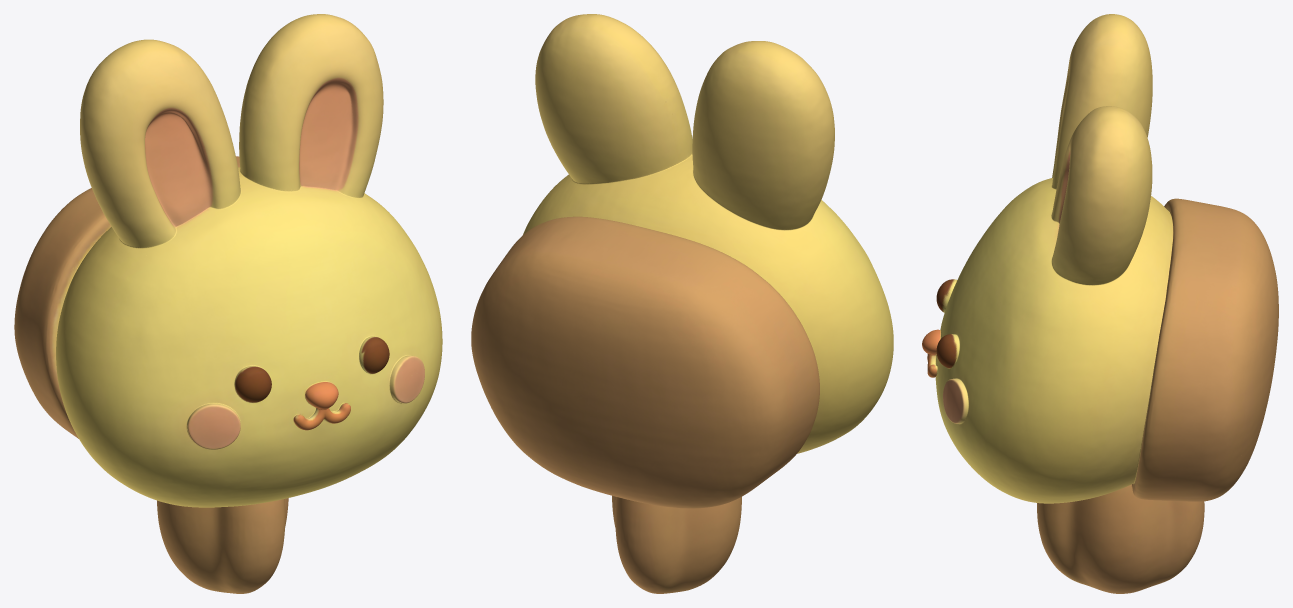
File: WallLamp.fbx
The picture shows the model from 3 angles, left to right: view 1: azimuth 30°, elevation 25°; view 2: azimuth 150°, elevation 25°; view 3: azimuth 270°, elevation 25°; orthographic projection. The views are drawn at different scales.
Parts seen in each view (by area): view 1: cute bunny 3d model; view 2: cute bunny 3d model; view 3: cute bunny 3d model.
Boxes of the visible parts, x1=… form: cute bunny 3d model: x1=14, y1=14, x2=442, y2=593; cute bunny 3d model: x1=471, y1=14, x2=893, y2=593; cute bunny 3d model: x1=922, y1=14, x2=1278, y2=593.
Bounding box in the file's own units: 0.6541 × 1 × 0.6085.
Materials: 1 (1 with a texture image).
